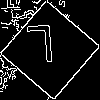L: (25, 25, 56, 72)
